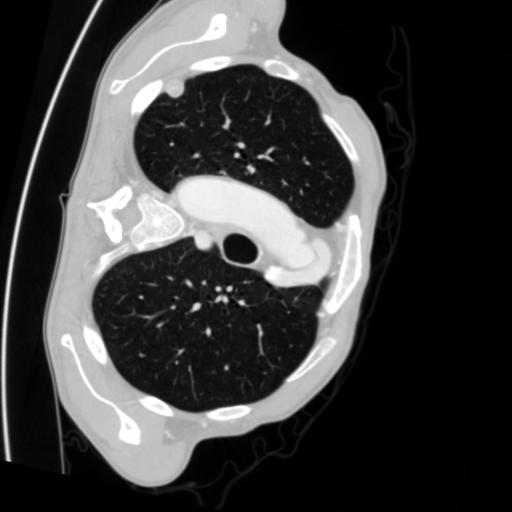nodule: (162, 77, 190, 105)
